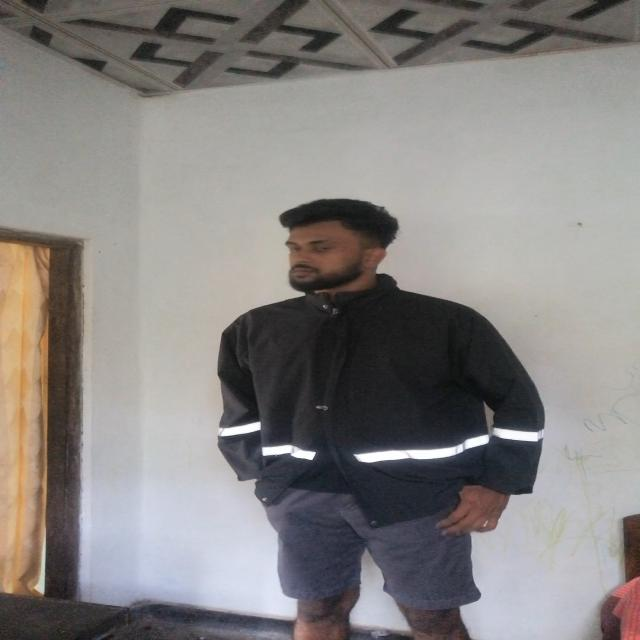Jacket_Wearer: (197, 282, 567, 529)
